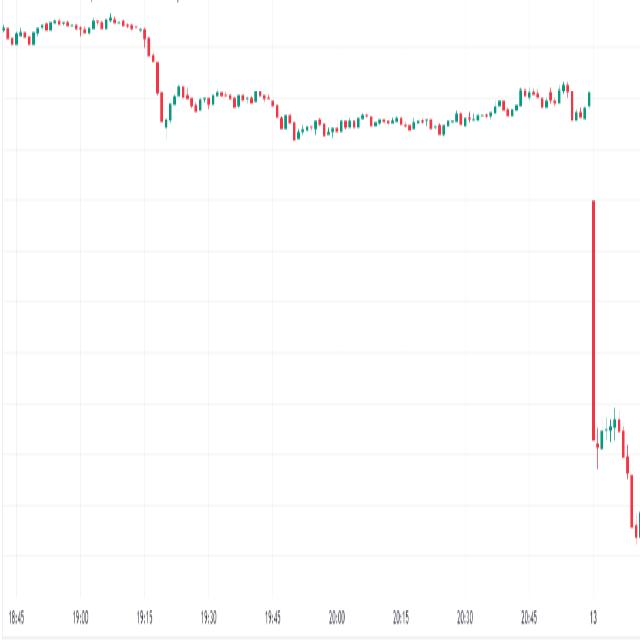rectangle: (170, 73, 282, 145)
